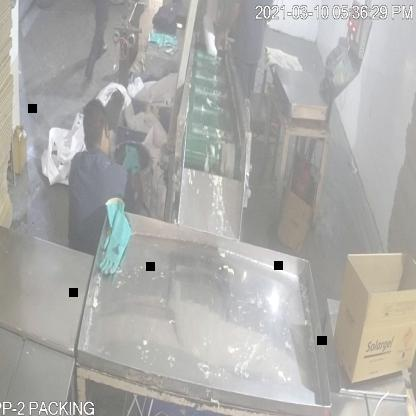no_glove: (210, 0, 244, 53)
